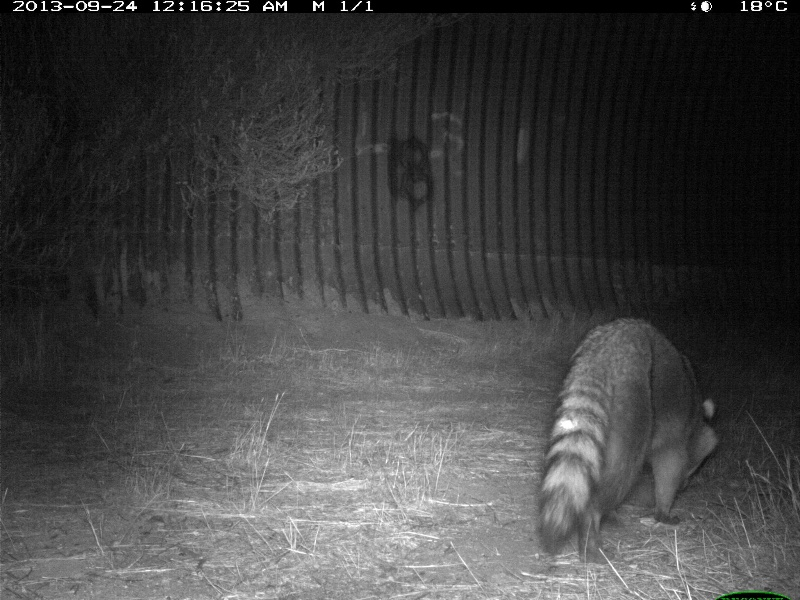raccoon: (539, 316, 721, 560)
